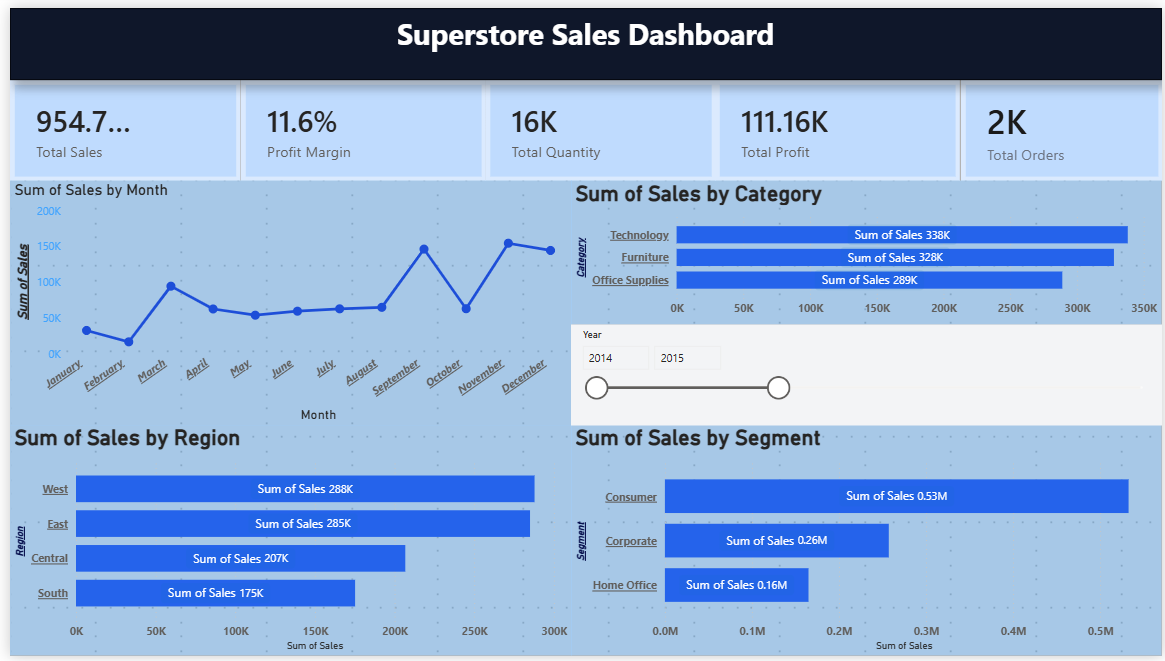

The page's visual inventory and layout, read from the dashboard file:
{"tool":"powerbi","page":{"name":"Page 1","canvas":[1280,720],"ordinal":0},"visuals":[{"type":"cardVisual","fields":{"Data":["Date.Profit Margin"]},"box":[256,80,272,112],"z":0},{"type":"cardVisual","fields":{"Data":["Date.Total Profit"]},"box":[784,80,272,112],"z":1000},{"type":"cardVisual","fields":{"Data":["Date.Total Orders"]},"box":[1056,80,224,112],"z":2000},{"type":"cardVisual","fields":{"Data":["Date.Total Sales"]},"box":[0,80,256,112],"z":3000},{"type":"cardVisual","fields":{"Data":["Date.Total Quantity"]},"box":[528,80,256,112],"z":4000},{"type":"lineChart","fields":{"Category":["Date.Date.Variation.Date Hierarchy.Month"],"Y":["Sum(Sample - Superstore.Sales)"]},"box":[0,192,624,272],"z":5000},{"type":"clusteredBarChart","fields":{"Category":["Sample - Superstore.Category"],"Y":["Sum(Sample - Superstore.Sales)"]},"box":[624,192,656,160],"z":6000},{"type":"clusteredBarChart","fields":{"Y":["Sum(Sample - Superstore.Sales)"],"Category":["Sample - Superstore.Region"]},"box":[0,464,624,256],"z":7000},{"type":"clusteredBarChart","fields":{"Category":["Sample - Superstore.Segment"],"Y":["Sum(Sample - Superstore.Sales)"]},"box":[624,464,656,256],"z":8000},{"type":"slicer","fields":{"Values":["Date.Date.Variation.Date Hierarchy.Year"]},"box":[624,352,656,112],"z":9000},{"type":"textbox","box":[0,0,1280,80],"z":10000}]}

Visuals, with their boxes in screenshot pixels (x1, y1, x2, y2), scaled from the page's 1280x720 canvas onto the 1165x661 screenshot:
cardVisual - Date.Profit Margin: crop(233, 73, 481, 176)
cardVisual - Date.Total Profit: crop(714, 73, 961, 176)
cardVisual - Date.Total Orders: crop(961, 73, 1164, 176)
cardVisual - Date.Total Sales: crop(0, 73, 233, 176)
cardVisual - Date.Total Quantity: crop(481, 73, 714, 176)
lineChart - Date.Date.Variation.Date Hierarchy.Month x Sum(Sample - Superstore.Sales): crop(0, 176, 568, 426)
clusteredBarChart - Sample - Superstore.Category x Sum(Sample - Superstore.Sales): crop(568, 176, 1164, 323)
clusteredBarChart - Sum(Sample - Superstore.Sales) x Sample - Superstore.Region: crop(0, 426, 568, 660)
clusteredBarChart - Sample - Superstore.Segment x Sum(Sample - Superstore.Sales): crop(568, 426, 1164, 660)
slicer - Date.Date.Variation.Date Hierarchy.Year: crop(568, 323, 1164, 426)
textbox: crop(0, 0, 1164, 73)
